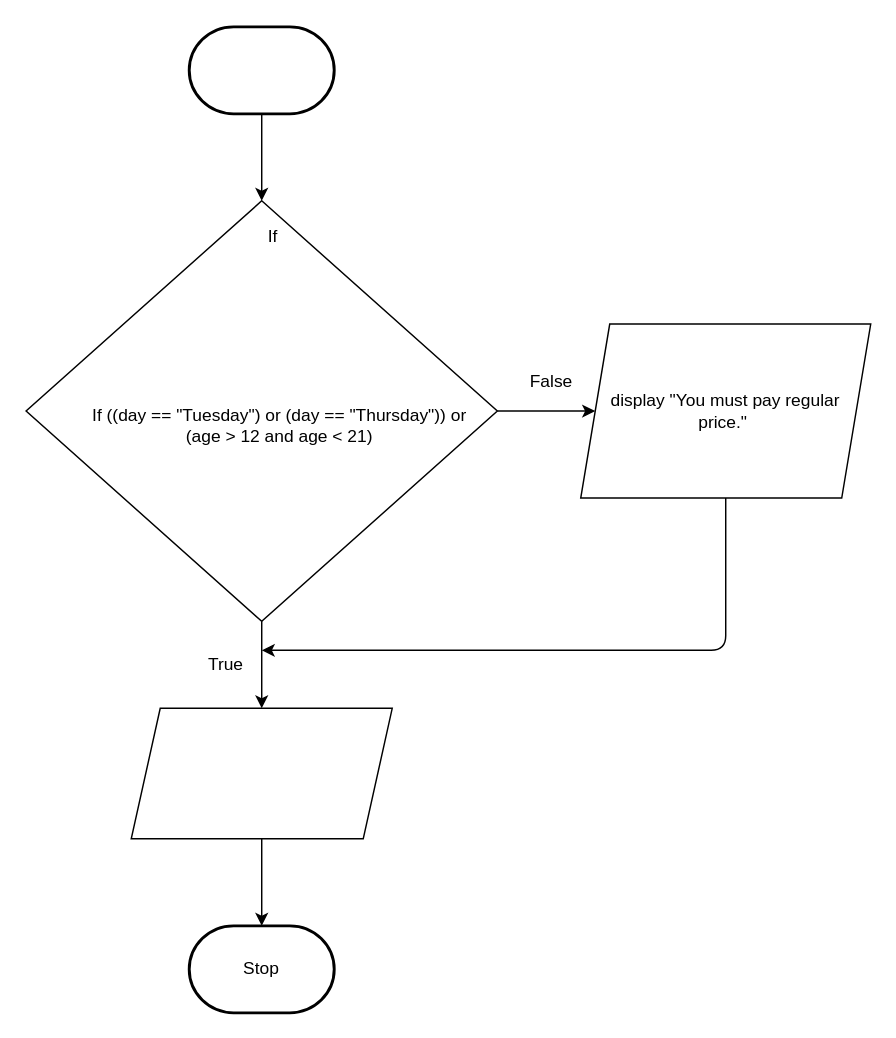
Image size: 896x1038. Some labels were removed from this diagram. The box of each missing label's shape, as (x1, y1, x2, y2) in pixels:
display "You're eligible for student pricing": (130, 707, 392, 839)
Start: (187, 25, 335, 115)
